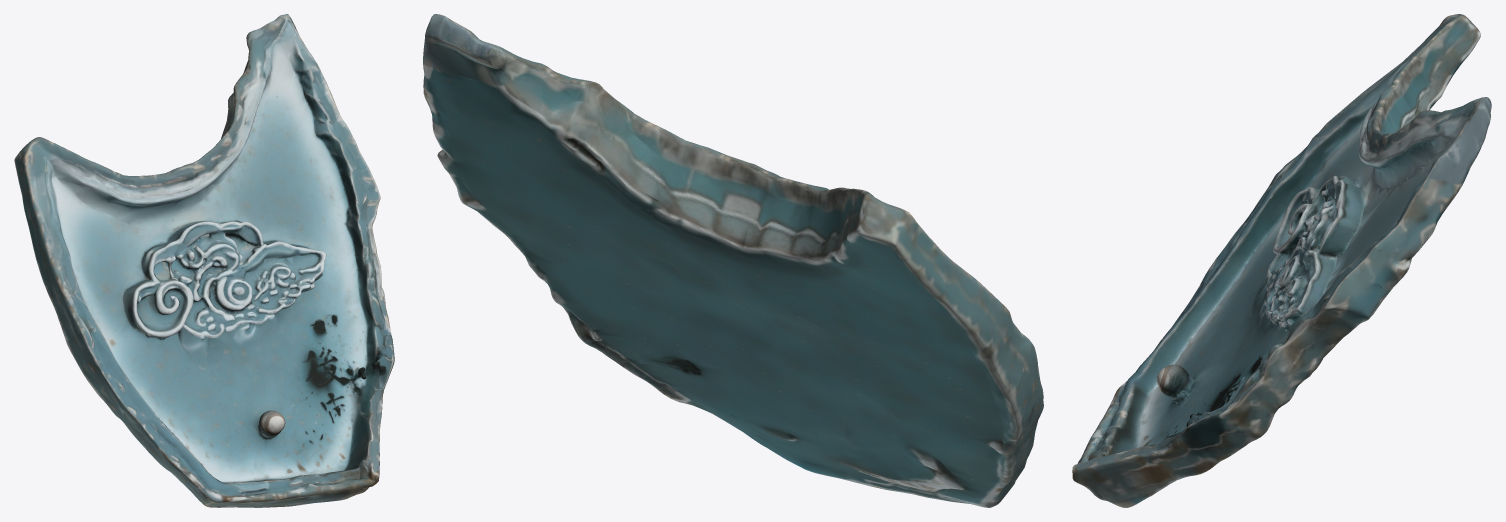
The model's file is Meshy_AI_Jade_Cloud_Vessel_0822070626_texture.fbx.
3 views of the same model, side by side, from view 1: azimuth 30°, elevation 25°; view 2: azimuth 150°, elevation 25°; view 3: azimuth 270°, elevation 25° (orthographic). The views are drawn at different scales.
Parts seen in each view (by area): view 1: output_unwrapped; view 2: output_unwrapped; view 3: output_unwrapped.
Part boxes in pixels (x1,y1,x2,y2): output_unwrapped: (14, 14, 394, 507); output_unwrapped: (423, 14, 1043, 507); output_unwrapped: (1072, 14, 1491, 507).
Size of the model in its own units: 189 by 200 by 168.
1 material, 1 textured.
